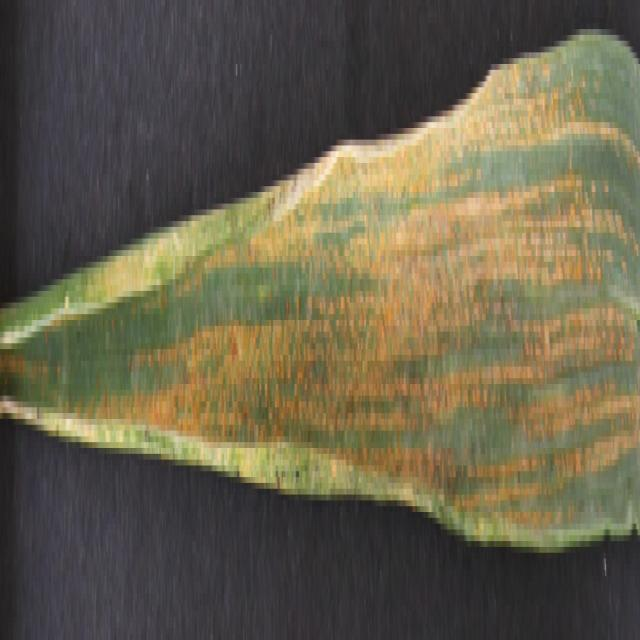leaf rust: (77, 64, 640, 524)
